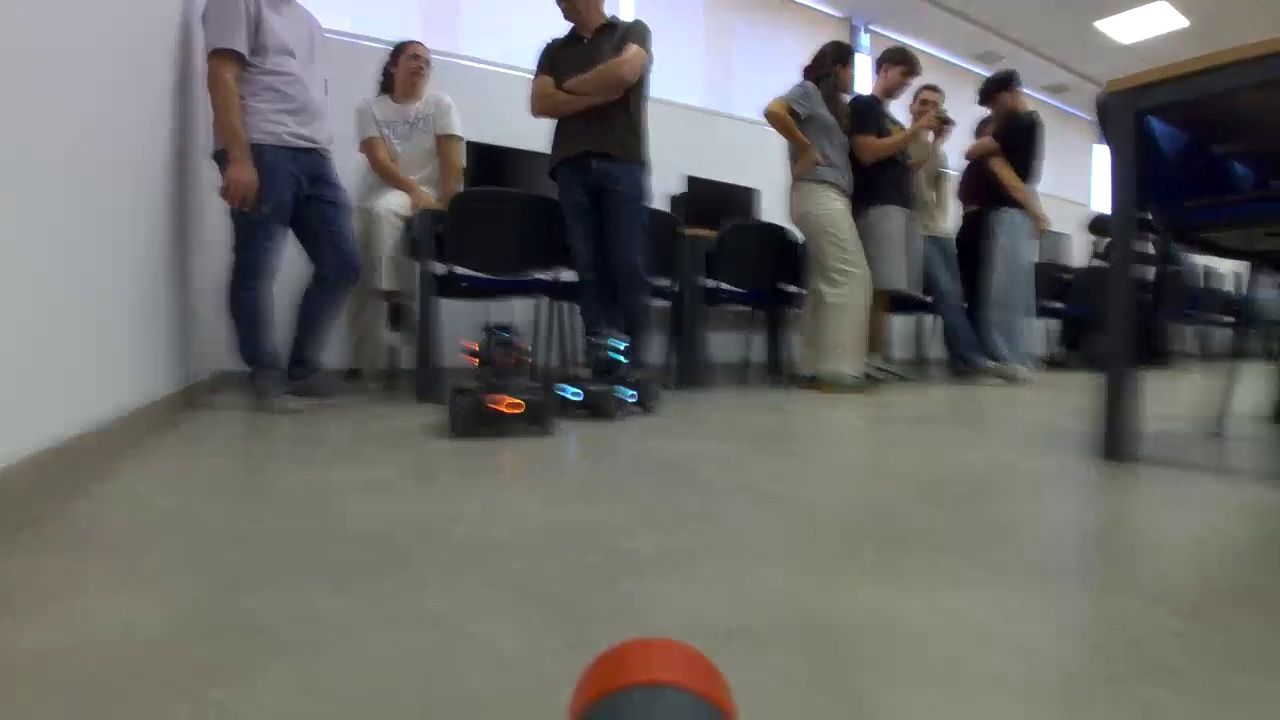robot: (449, 322, 554, 437), (564, 334, 646, 424)
